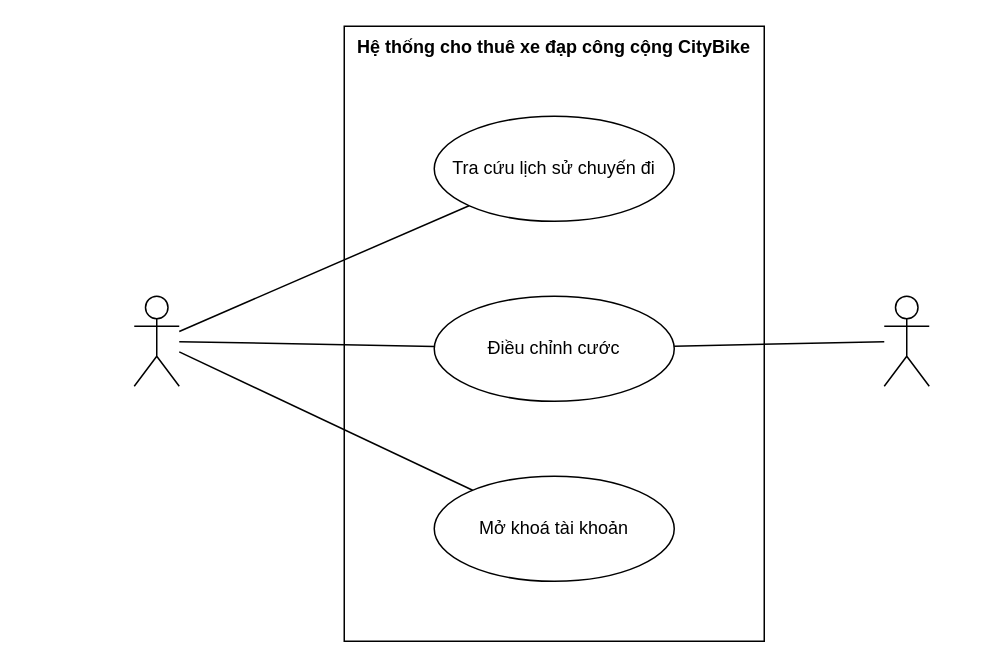
The diagram is 999 pixels wide and 668 high, and some of its shapes have lost their labels. Each missing label, with the centre of its shape:
Nhân viên chăm sóc khách hàng: the point at 156,340
«system» Cổng thanh toán: the point at 906,340
